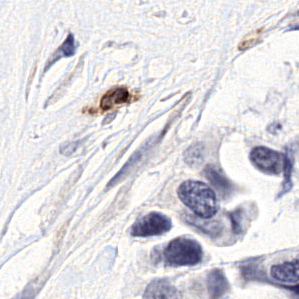Lymphocyte: (98, 85, 134, 112)
